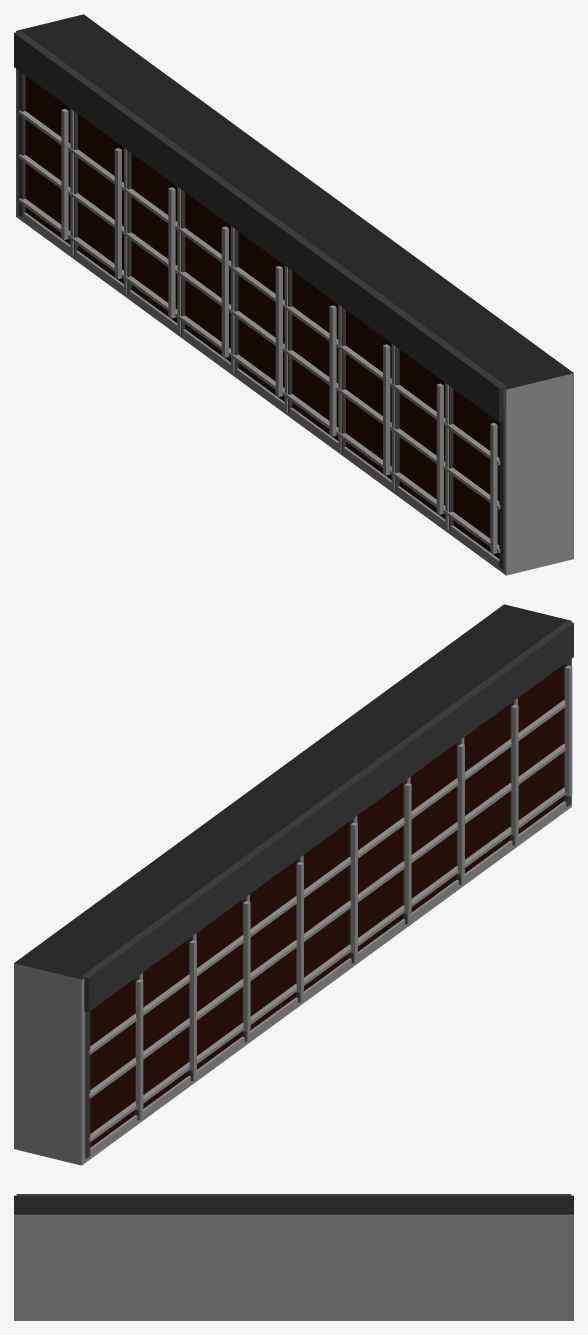
File: huojia7.FBX
3 renders of one model, top to bottom at view 1: azimuth 30°, elevation 25°; view 2: azimuth 150°, elevation 25°; view 3: azimuth 270°, elevation 25°, orthographic. The views are drawn at different scales.
Parts seen in each view (by area): view 1: huojia11, boli; view 2: huojia11, boli; view 3: huojia11.
Part boxes in pixels (box(x1,y1,x2,y2)): huojia11: box(14, 14, 573, 575); boli: box(25, 76, 499, 558); huojia11: box(14, 604, 573, 1165); boli: box(90, 665, 563, 1147); huojia11: box(14, 1194, 573, 1320).
Bounding box in the file's own units: 145 × 347 × 1650.
